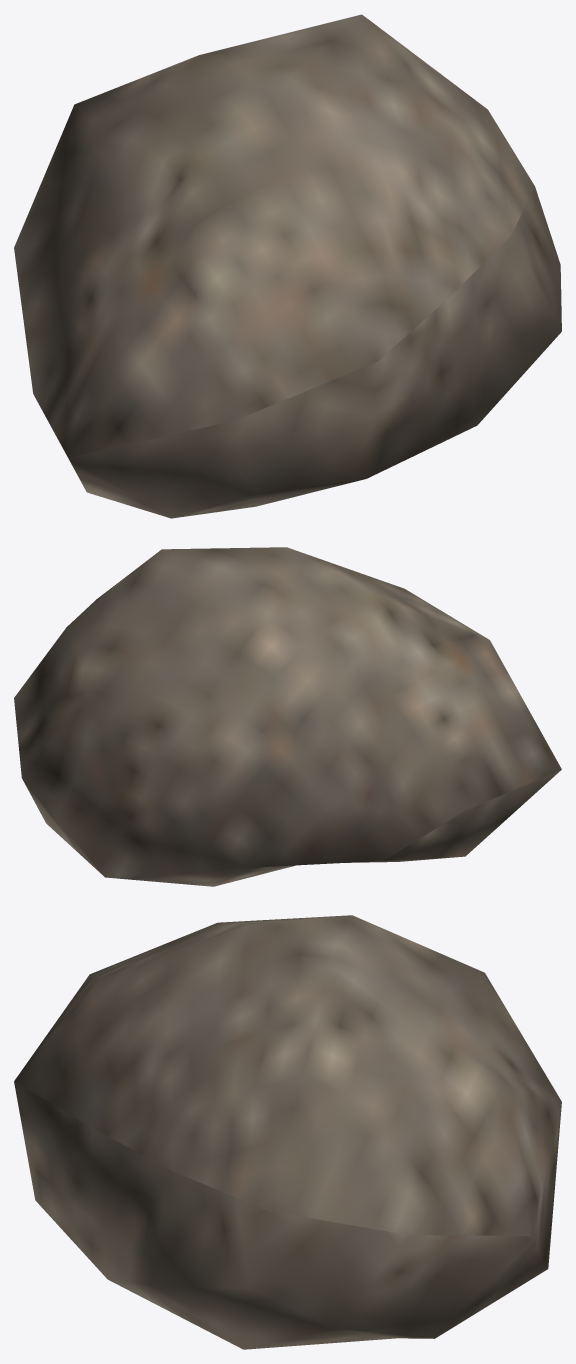
The model's file is rock_Medium.fbx.
The picture shows the model from 3 angles, top to bottom: view 1: azimuth 30°, elevation 25°; view 2: azimuth 150°, elevation 25°; view 3: azimuth 270°, elevation 25°; orthographic projection. The views are drawn at different scales.
Visible parts, largest first — view 1: rock_Medium; view 2: rock_Medium; view 3: rock_Medium.
Boxes of the visible parts, x1=… form: rock_Medium: x1=14, y1=14, x2=561, y2=518; rock_Medium: x1=14, y1=547, x2=561, y2=886; rock_Medium: x1=14, y1=915, x2=561, y2=1349.
Size of the model in its own units: 197 by 126 by 177.
Materials: 1 (1 with a texture image).
